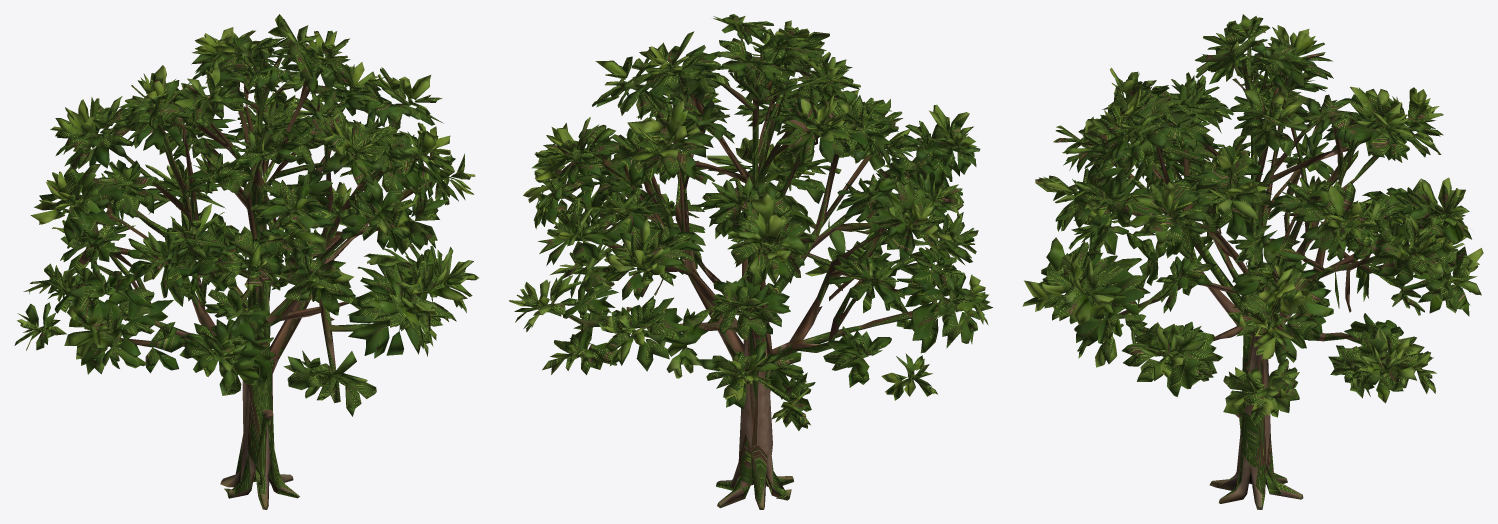
File: broadleaf-tree.glb
3 renders of one model, left to right at view 1: azimuth 30°, elevation 25°; view 2: azimuth 150°, elevation 25°; view 3: azimuth 270°, elevation 25°, orthographic.
Parts seen in each view (by area): view 1: tripo_node_cd4ed642-e9b6-4a6a-a064-e3b3f8358b71; view 2: tripo_node_cd4ed642-e9b6-4a6a-a064-e3b3f8358b71; view 3: tripo_node_cd4ed642-e9b6-4a6a-a064-e3b3f8358b71.
Part boxes in pixels (x1,y1,x2,y2): tripo_node_cd4ed642-e9b6-4a6a-a064-e3b3f8358b71: [14, 14, 478, 509]; tripo_node_cd4ed642-e9b6-4a6a-a064-e3b3f8358b71: [509, 14, 992, 509]; tripo_node_cd4ed642-e9b6-4a6a-a064-e3b3f8358b71: [1022, 14, 1483, 509].
Bounding box in the file's own units: 0.9669 × 0.9996 × 0.8923.
1 material, 1 textured.
